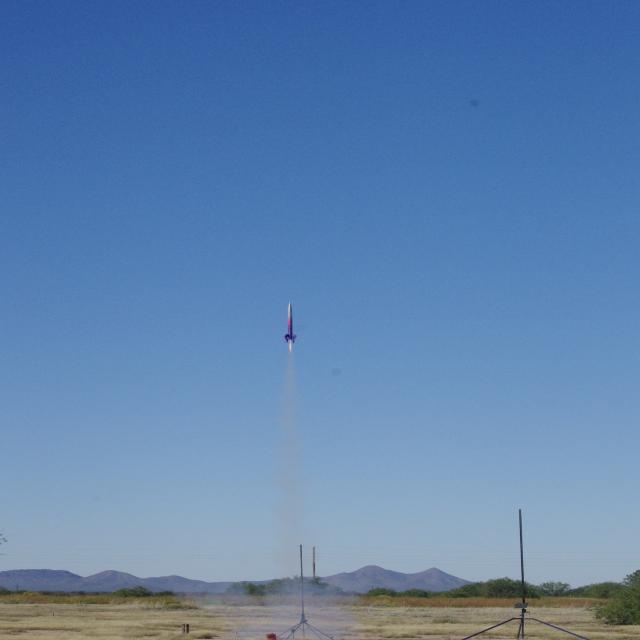Rocket: (283, 302, 298, 344)
